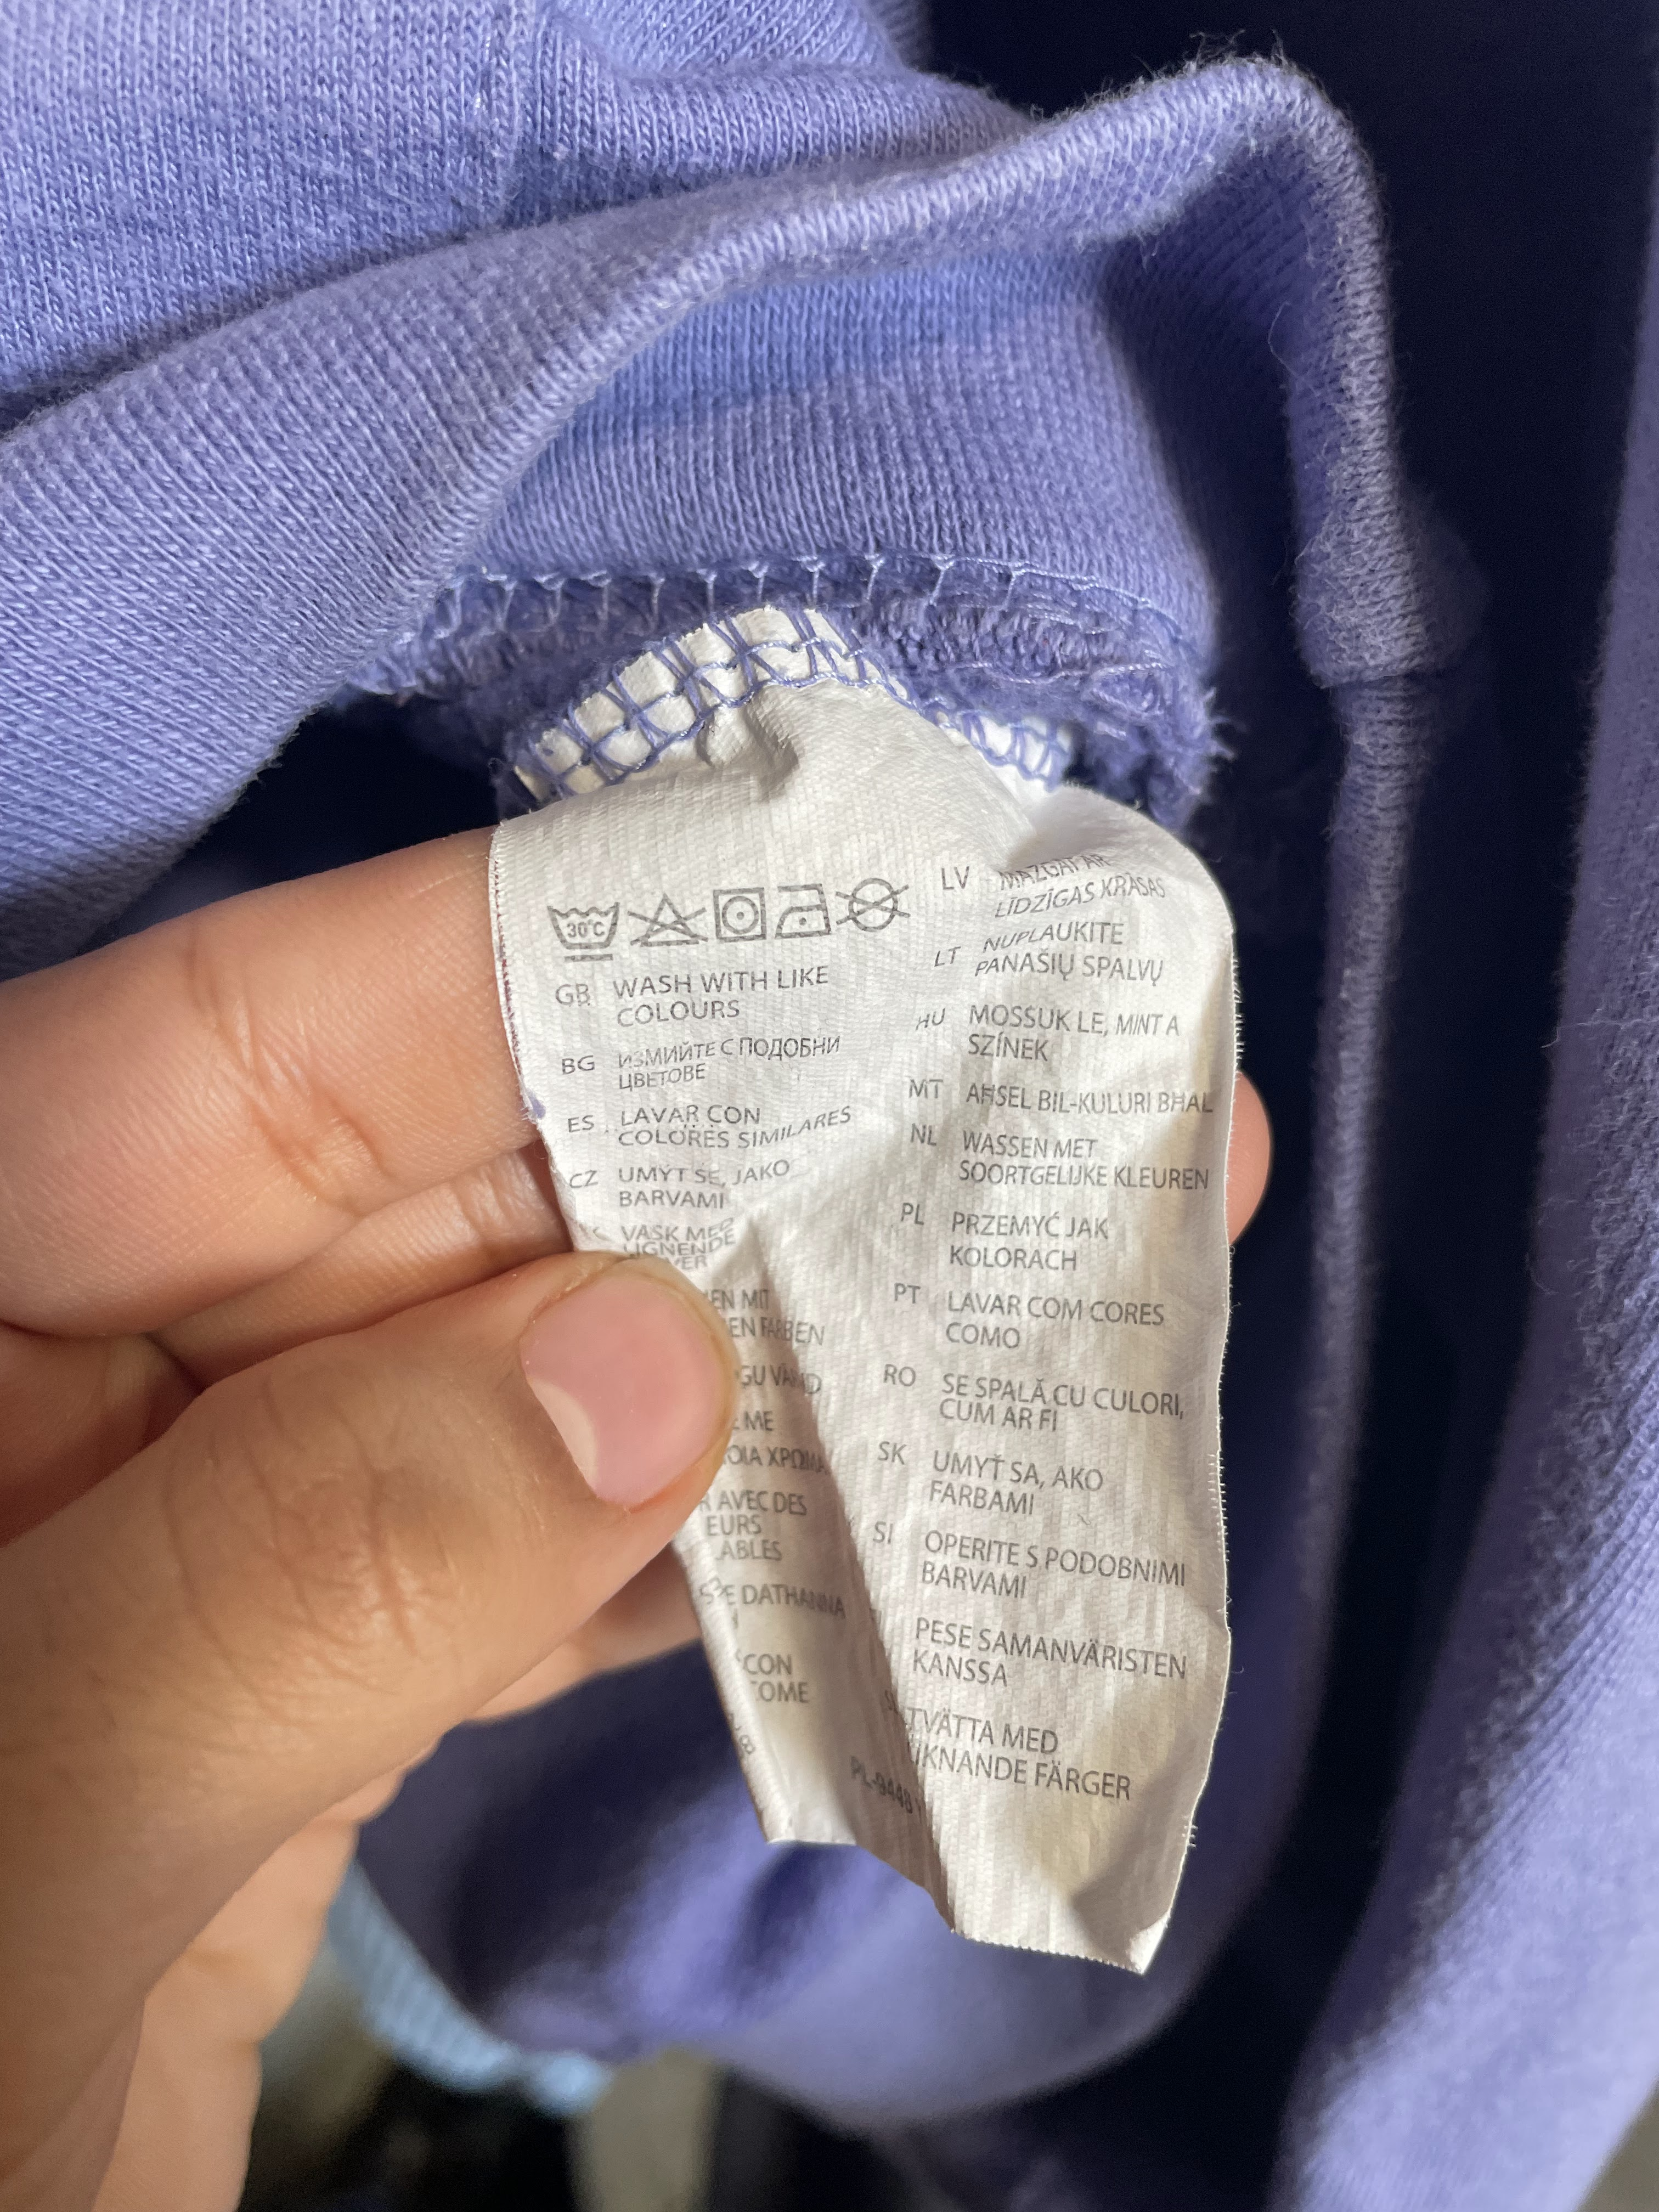do not bleach: (633, 867, 708, 965)
do not dry clean: (838, 862, 925, 948)
iron low temp: (772, 873, 838, 953)
tumble dry low temp: (701, 874, 777, 961)
wash at or below 30: (538, 873, 636, 974)
